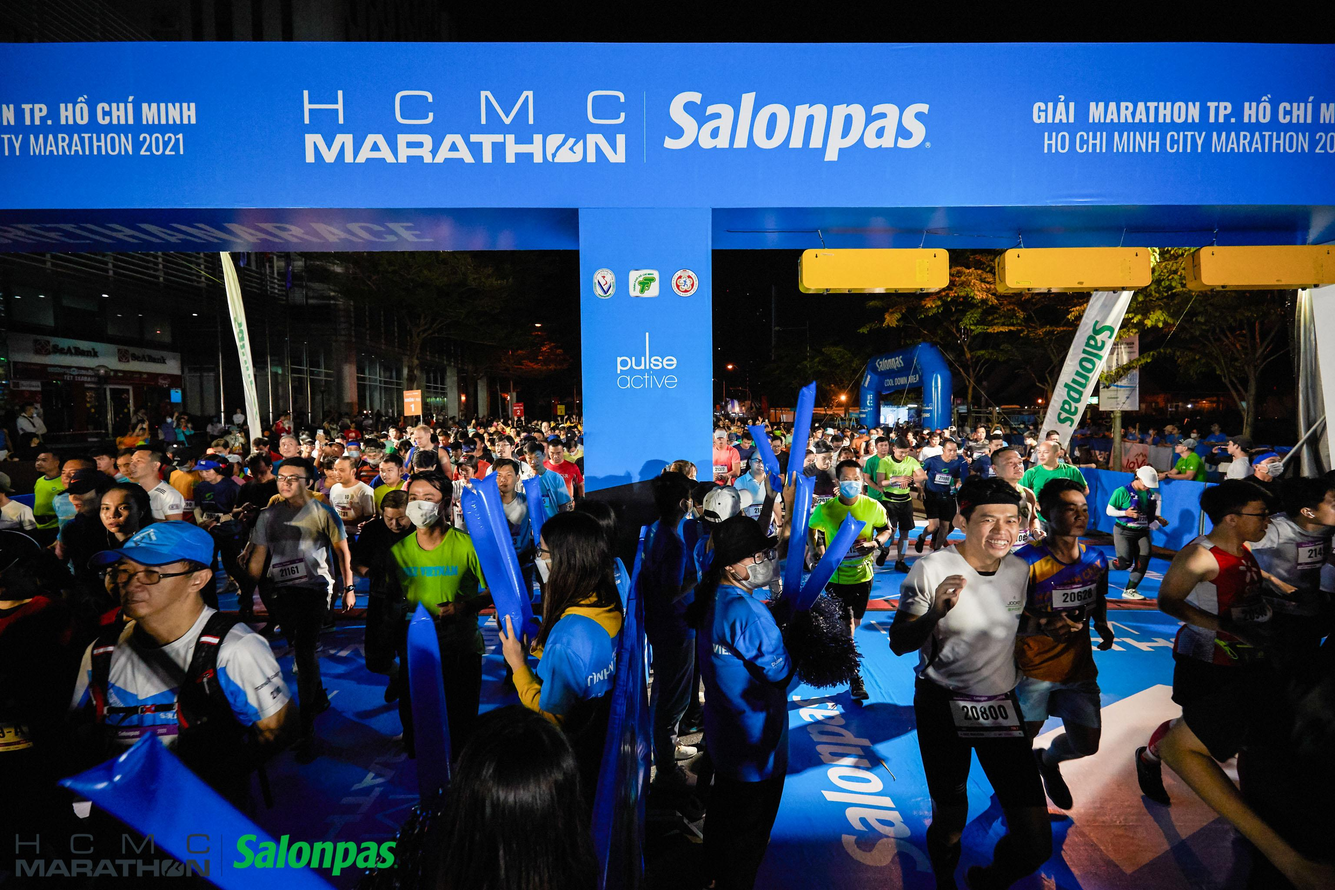bib: (946, 692, 1026, 741), (1052, 581, 1100, 611), (270, 559, 309, 585), (1295, 538, 1324, 569), (334, 504, 355, 521), (1014, 530, 1032, 547), (933, 472, 951, 486), (813, 493, 834, 505), (749, 505, 764, 519), (1132, 514, 1149, 526), (712, 464, 727, 475)
